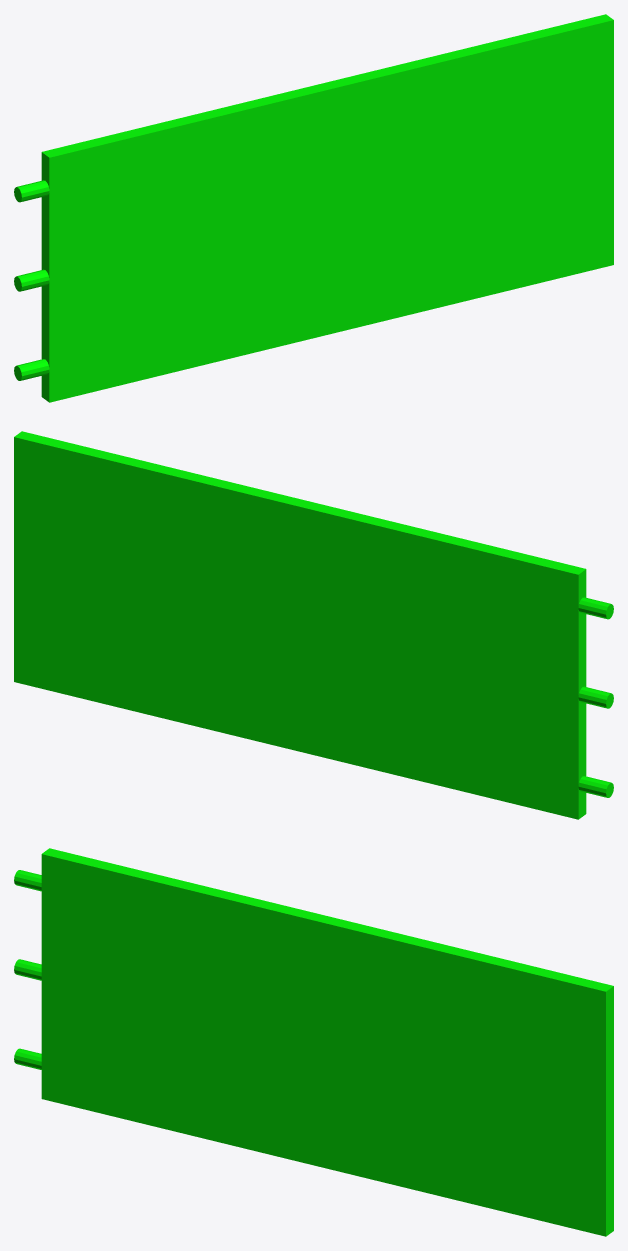
The model's file is ryggstod_correct.obj.
3 renders of one model, top to bottom at view 1: azimuth 30°, elevation 25°; view 2: azimuth 150°, elevation 25°; view 3: azimuth 330°, elevation 25°, orthographic.
Size of the model in its own units: 215 by 85 by 5.
